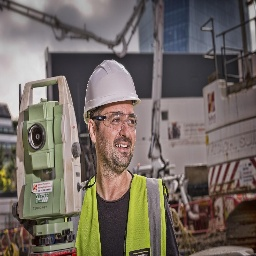helmet: (81, 58, 141, 126)
person: (80, 57, 154, 256)
vest: (79, 172, 165, 256)
